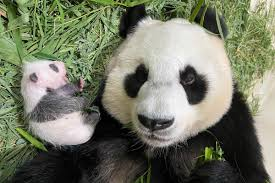panda: (80, 10, 247, 177)
